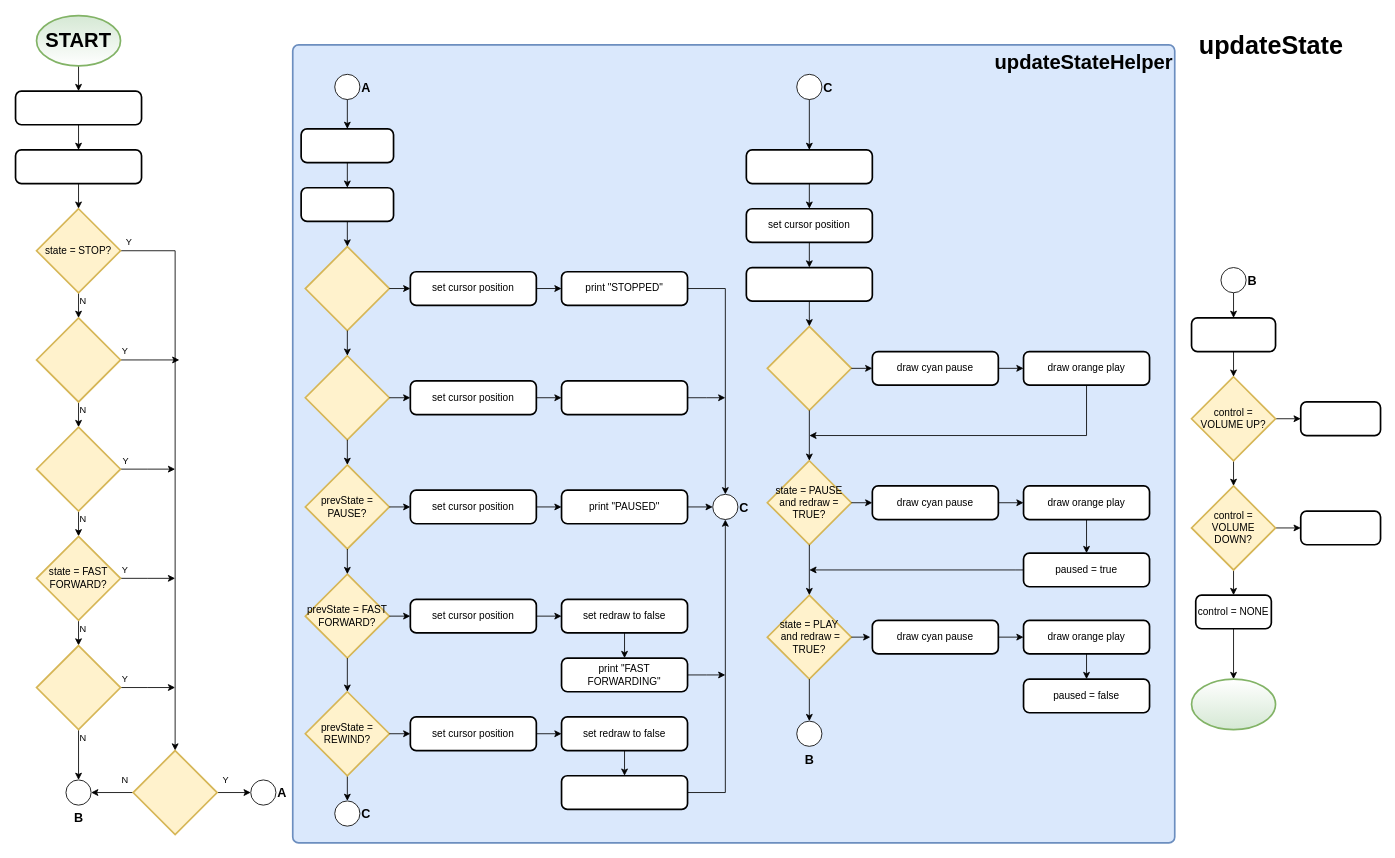
Some shapes in this 1395 by 858 pixel diagram are drawn without their labels. Each missing label, with the centre of its shape:
END: (x=1233, y=704)
move slider down: (x=1340, y=527)
move slider up: (x=1340, y=418)
prevState != state?: (x=175, y=792)
prevState = PLAY?: (x=347, y=397)
prevState = STOP?: (x=347, y=288)
print "PLAYING": (x=624, y=397)
print "REWINDING": (x=624, y=792)
print string version of state: (x=809, y=284)
set control from message received: (x=78, y=166)
set prevState to state: (x=1233, y=334)
set redraw true: (x=347, y=145)
set state from message received: (x=78, y=107)
set text color to black: (x=347, y=204)
set text color to orange: (x=809, y=166)
state = PAUSE?: (x=78, y=469)
state = PLAY?: (x=78, y=359)
state = REWIND?: (x=78, y=687)
state = STOP and paused = FALSE?: (x=809, y=368)
